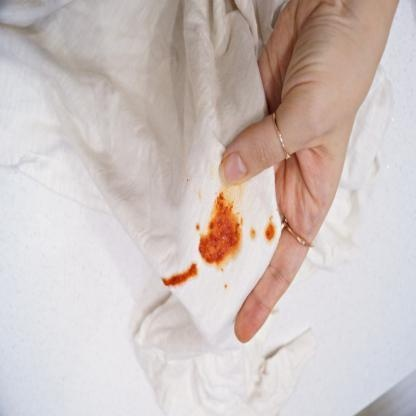kimchi: (198, 201, 242, 265), (162, 265, 203, 291), (261, 220, 280, 242), (249, 227, 259, 242), (183, 179, 194, 188), (192, 223, 200, 235), (219, 265, 228, 275), (224, 288, 230, 293)
